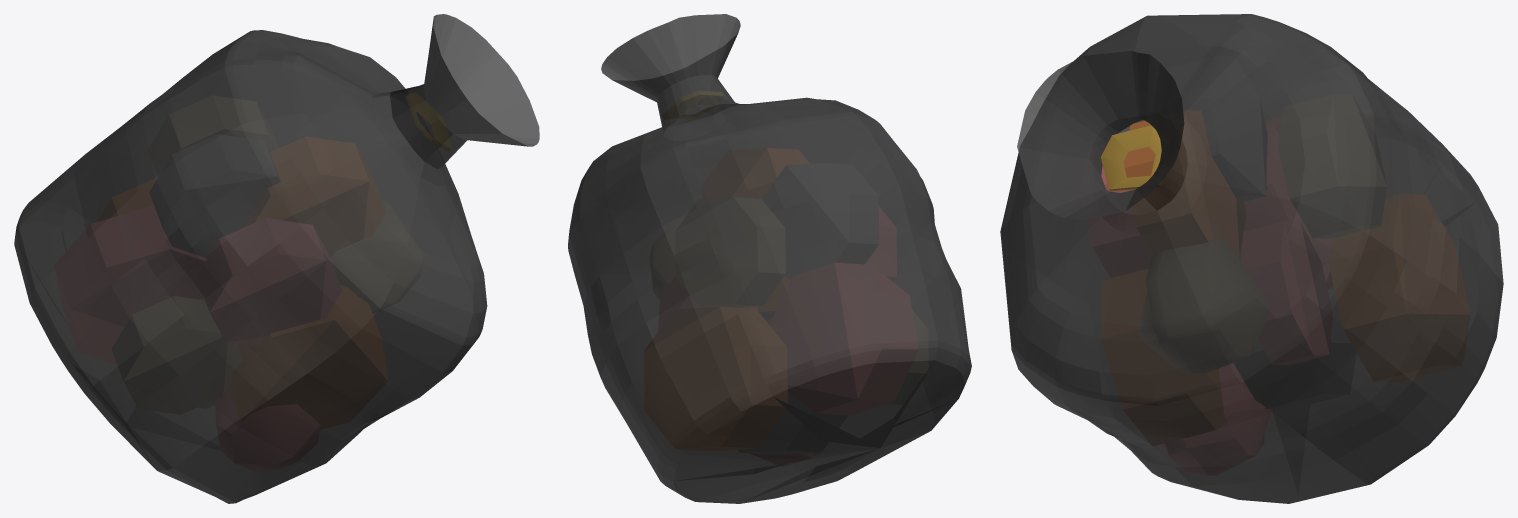
File: bag1.fbx
3 renders of one model, left to right at view 1: azimuth 30°, elevation 25°; view 2: azimuth 150°, elevation 25°; view 3: azimuth 270°, elevation 25°, orthographic. The views are drawn at different scales.
Parts seen in each view (by area): view 1: Trash3; view 2: Trash3; view 3: Trash3.
Boxes of the visible parts, x1,y1,x2,y2 form: Trash3: (14, 14, 539, 503); Trash3: (568, 14, 971, 503); Trash3: (1000, 14, 1503, 503).
Size of the model in its own units: 60.67 by 62.11 by 54.44.
